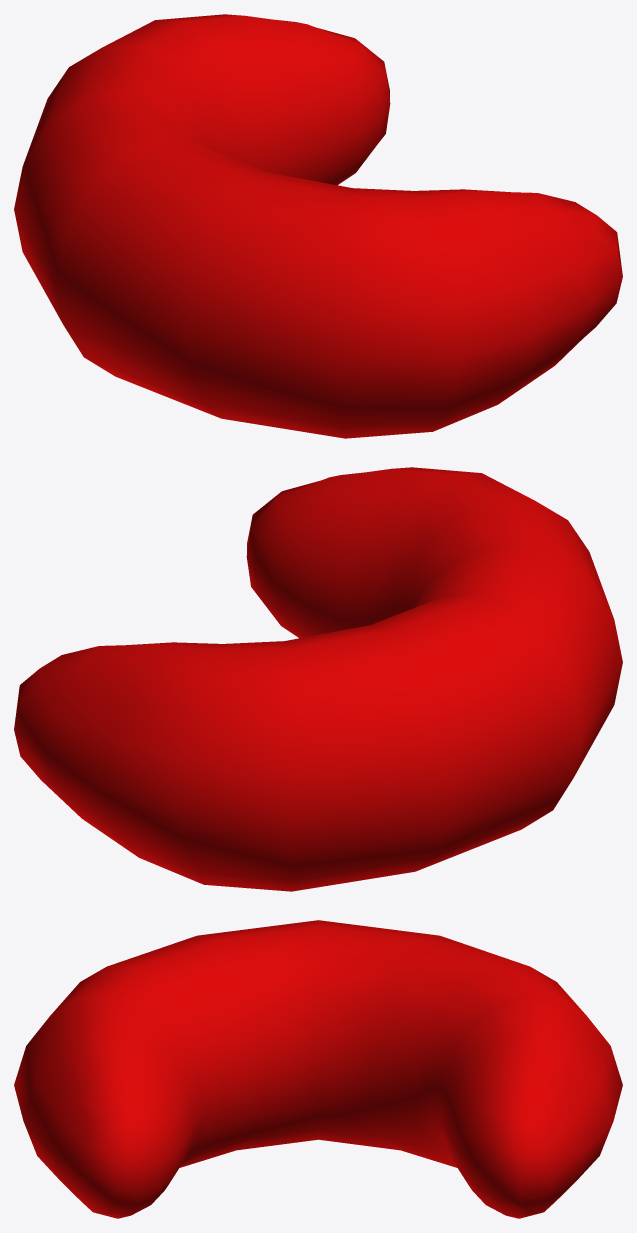
The model's file is Fur-13-01.fbx.
3 renders of one model, top to bottom at view 1: azimuth 30°, elevation 25°; view 2: azimuth 150°, elevation 25°; view 3: azimuth 270°, elevation 25°, orthographic. The views are drawn at different scales.
Parts seen in each view (by area): view 1: Mul_Mesh; view 2: Mul_Mesh; view 3: Mul_Mesh.
Part boxes in pixels (x1,y1,x2,y2): Mul_Mesh: (14,14,622,438); Mul_Mesh: (14,467,622,891); Mul_Mesh: (14,920,622,1218).
Bounding box in the file's own units: 89.74 × 45.02 × 121.
